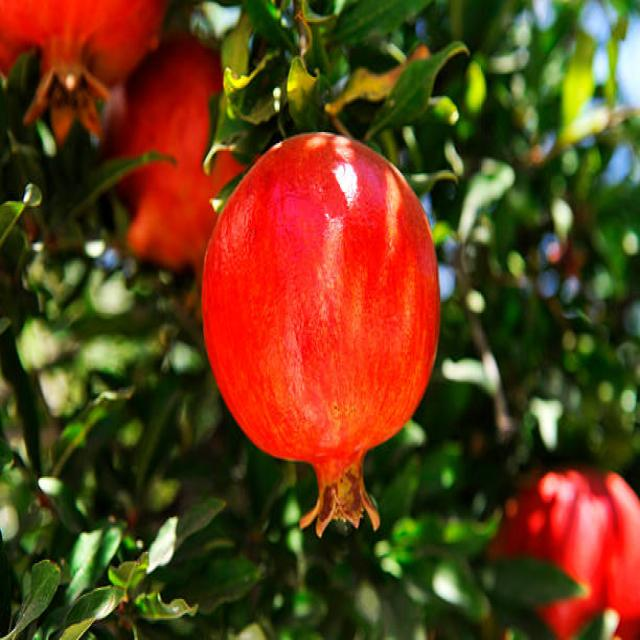Ripe: (195, 127, 452, 547)
